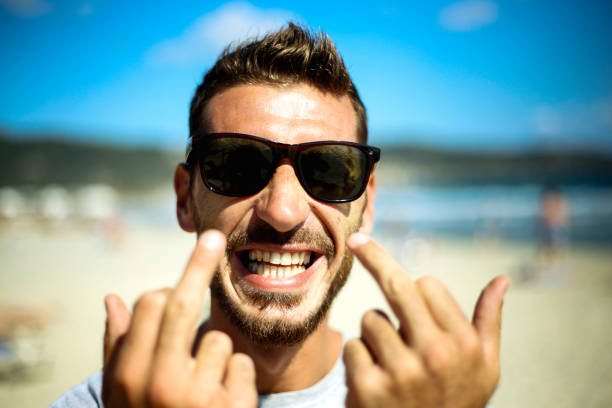insulting_gesture: (342, 230, 513, 408), (96, 229, 259, 408)
